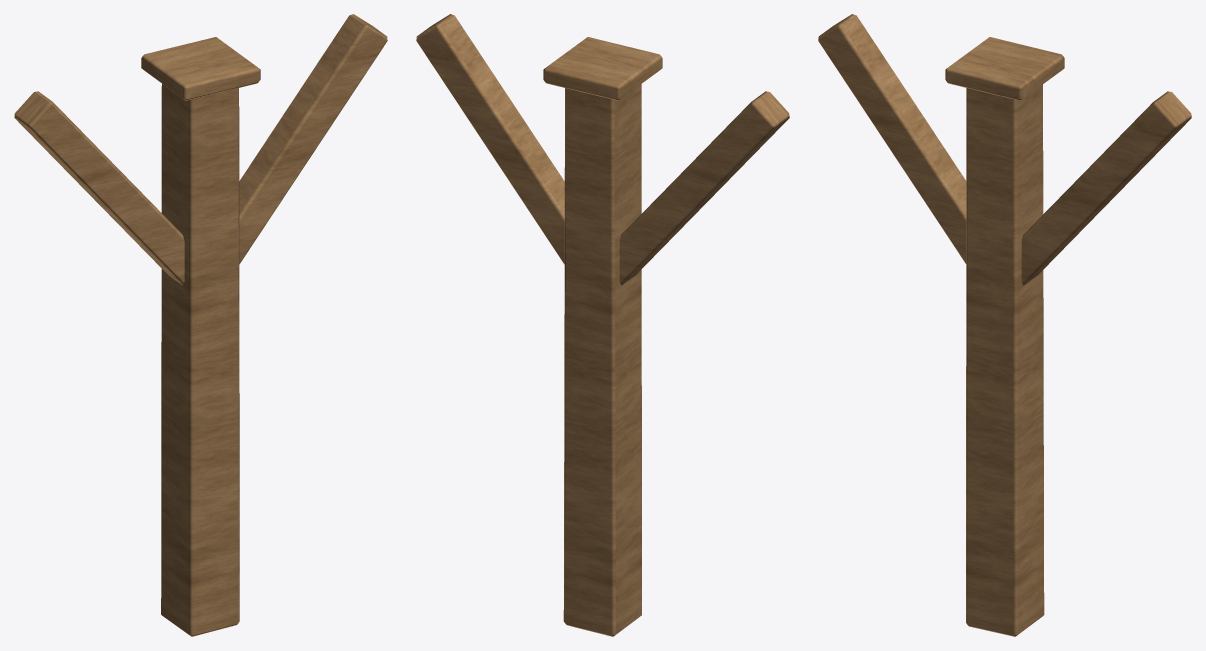
File: Post_2m.glb
The picture shows the model from 3 angles, left to right: view 1: azimuth 30°, elevation 25°; view 2: azimuth 150°, elevation 25°; view 3: azimuth 330°, elevation 25°; orthographic projection.
Visible parts, largest first — view 1: Post_2m; view 2: Post_2m; view 3: Post_2m.
Part boxes in pixels (<box>): Post_2m: <box>14,14,387,636</box>; Post_2m: <box>416,14,789,636</box>; Post_2m: <box>818,14,1191,636</box>.
Size of the model in its own units: 1.38 by 2.07 by 0.3.
Materials: 1 (1 with a texture image).
